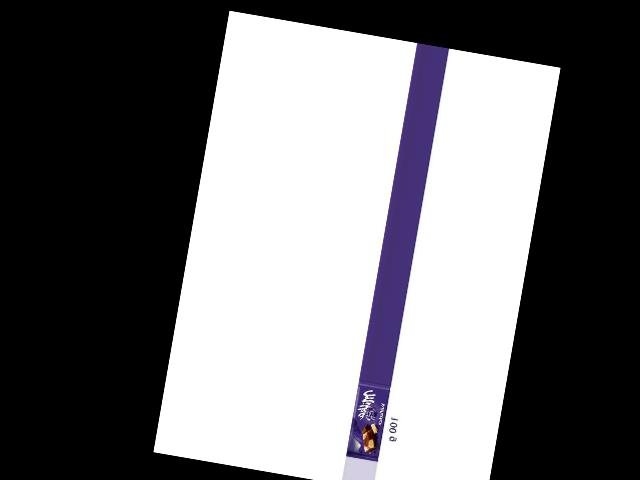chocolate: (344, 380, 395, 463)
